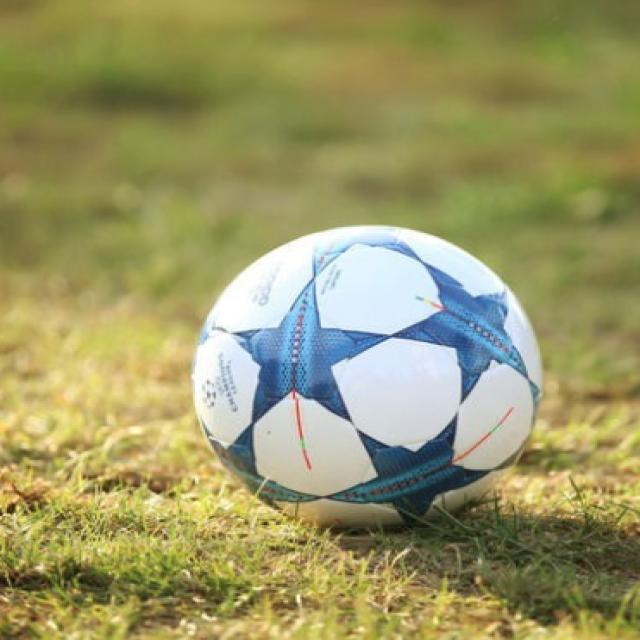football: (180, 193, 571, 581)
